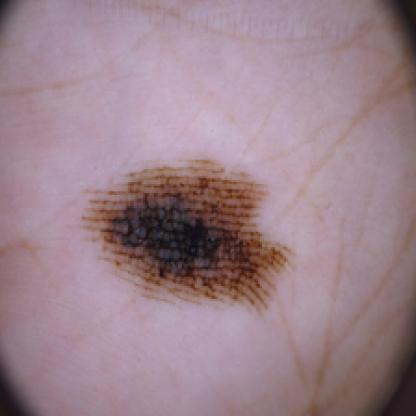benign: (97, 178, 282, 290)
